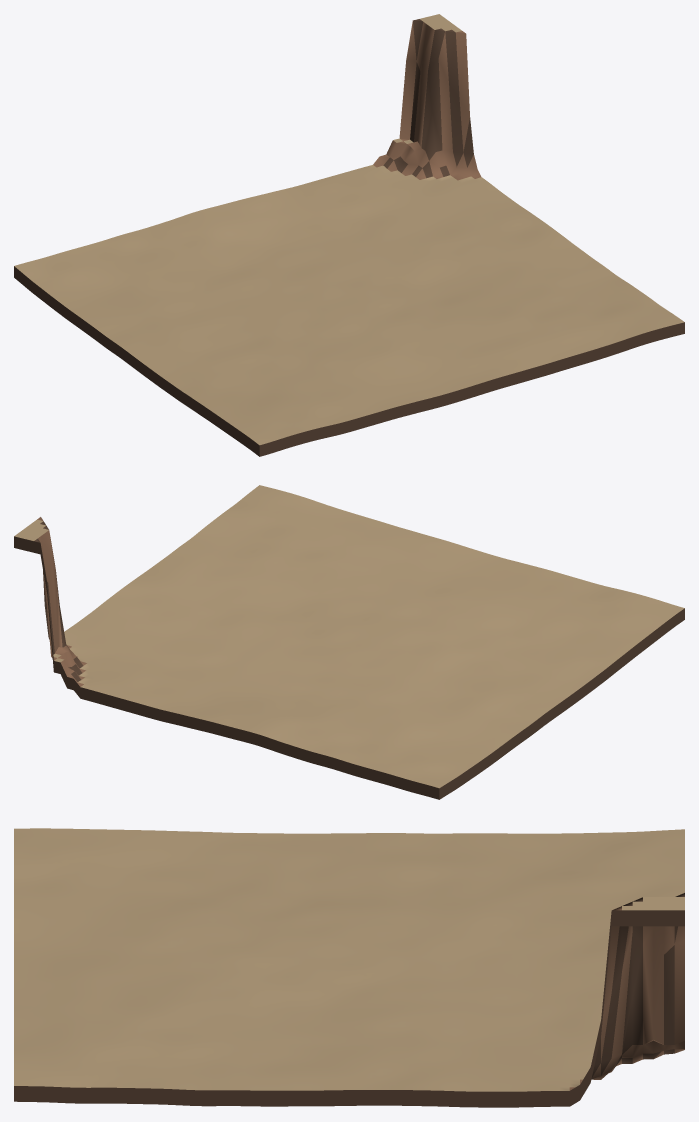
File: Terrain_03_02.fbx
The picture shows the model from 3 angles, top to bottom: view 1: azimuth 30°, elevation 25°; view 2: azimuth 150°, elevation 25°; view 3: azimuth 270°, elevation 25°; orthographic projection. The views are drawn at different scales.
Parts seen in each view (by area): view 1: Terrain_03_02_LOD0; view 2: Terrain_03_02_LOD0; view 3: Terrain_03_02_LOD0.
Boxes of the visible parts, bbox=[...] form: Terrain_03_02_LOD0: bbox=[14, 14, 684, 456]; Terrain_03_02_LOD0: bbox=[14, 485, 684, 799]; Terrain_03_02_LOD0: bbox=[14, 828, 684, 1107].
Size of what is drawn, in the model's own units: 384 by 141 by 384.
